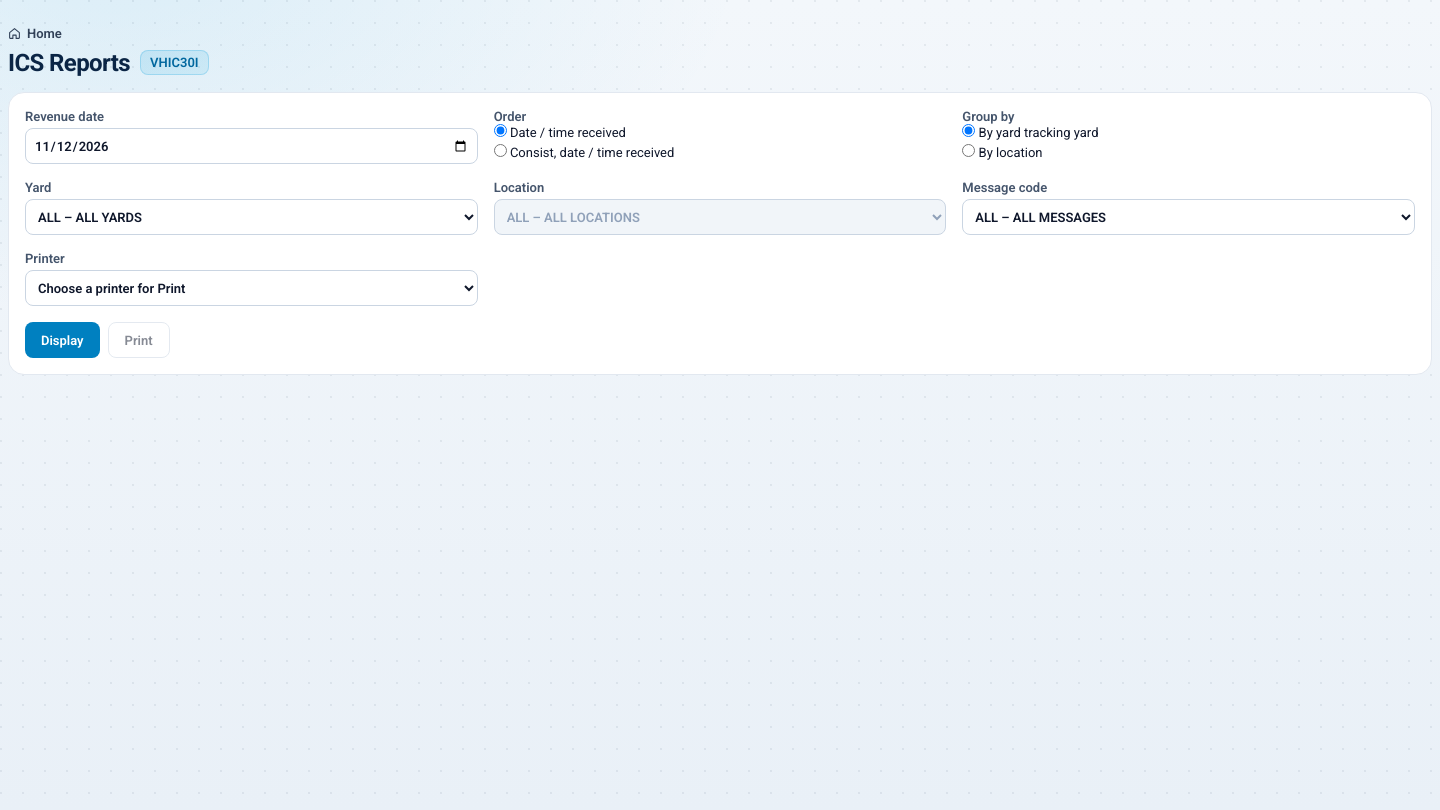
Scenario: ICS reports page (old VHIC30I / VHIC31I) › follows the old screen's rules: by location turns the yard list off; consist order turns message codes off
Expected: the date field labelled "Revenue date" is shown, 25,128 -> 478,164
Expected: the dropdown labelled "Location" is disabled, 494,199 -> 946,235
Click the radio button labelled "By location": (969, 150) 962,144 -> 975,157
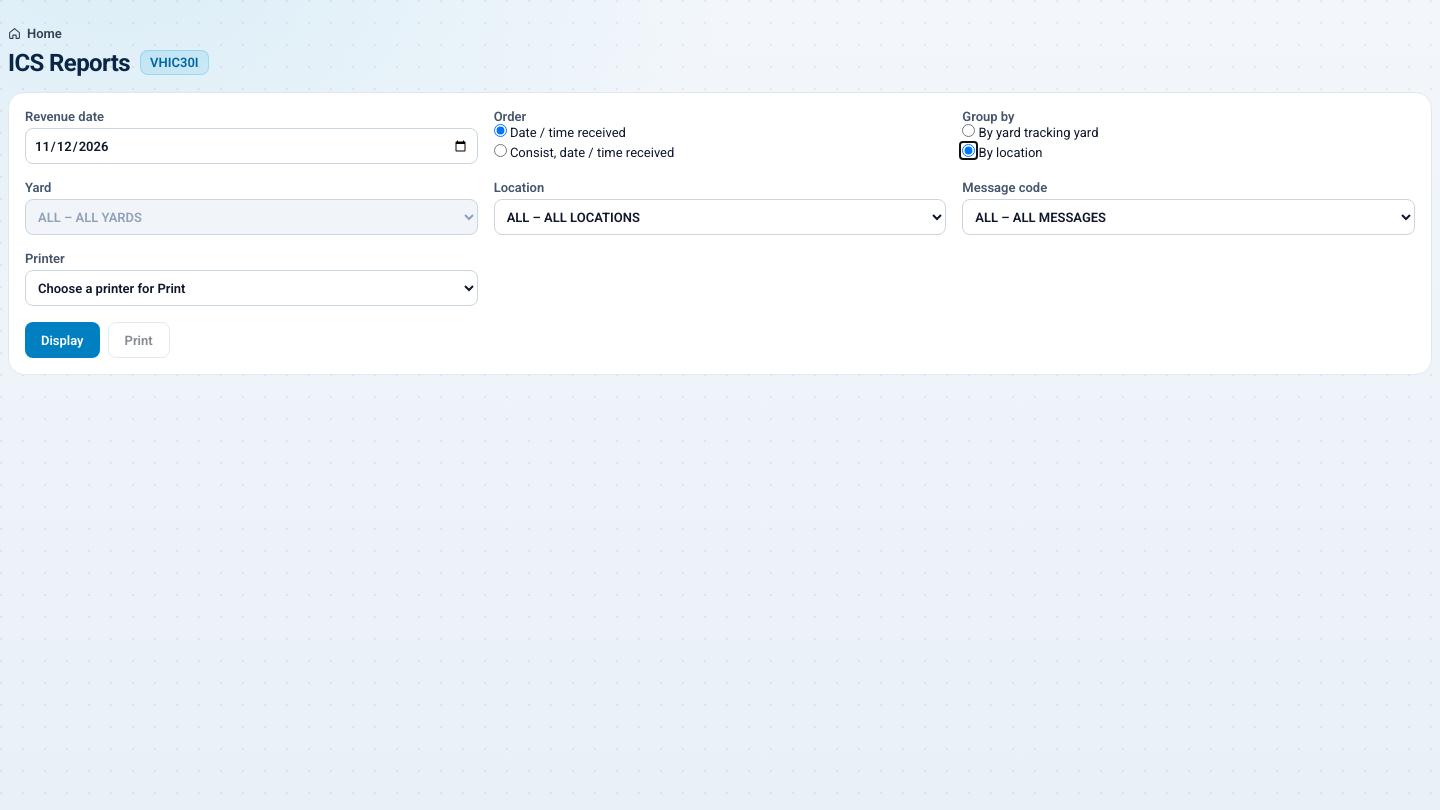
Expected: the dropdown labelled "Location" is enabled, 494,199 -> 946,235
Expected: the dropdown labelled "Yard" is disabled, 25,199 -> 478,235
Click the radio button labelled "Consist, date / time received": (500, 150) 494,144 -> 507,157
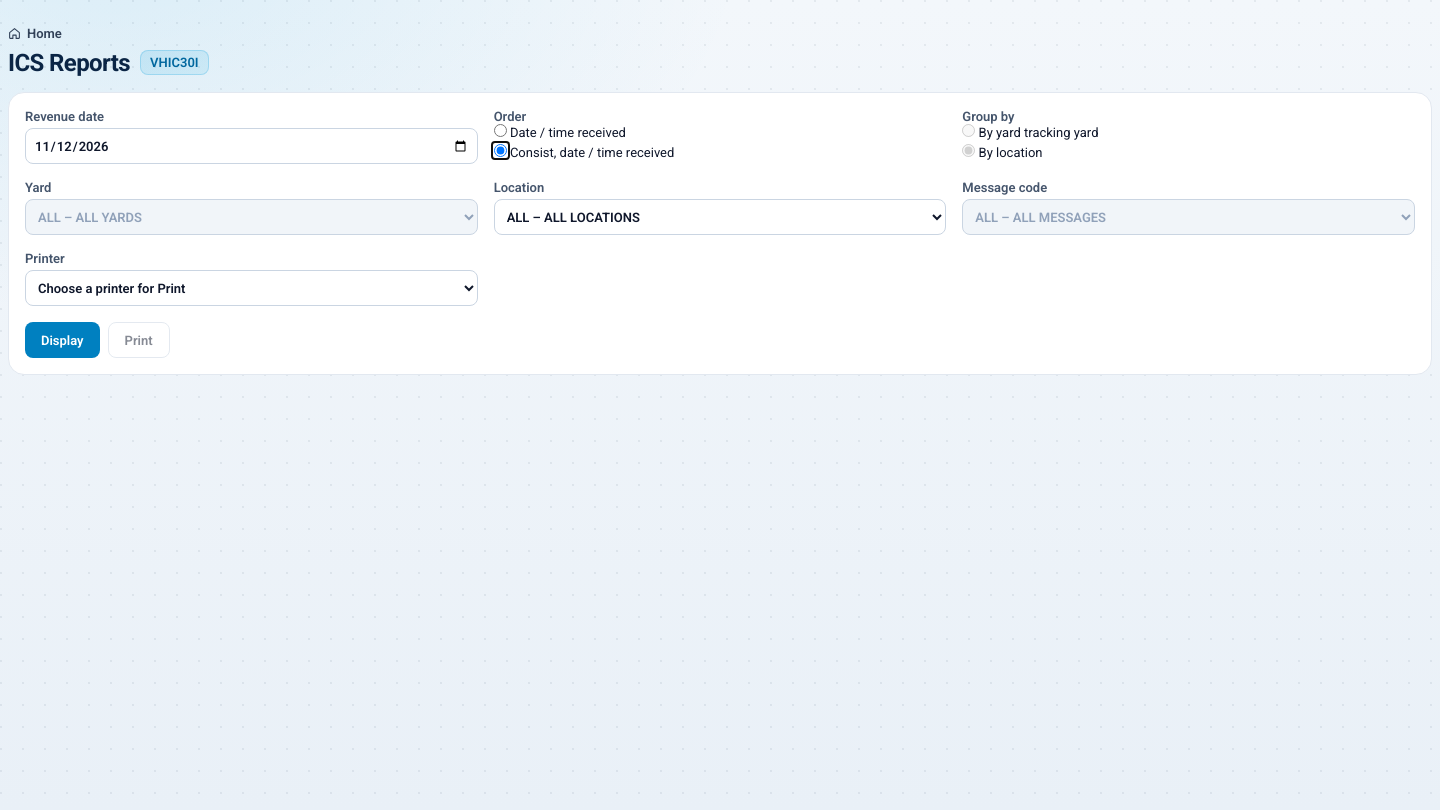
Expected: the dropdown labelled "Message code" is disabled, 962,199 -> 1415,235
